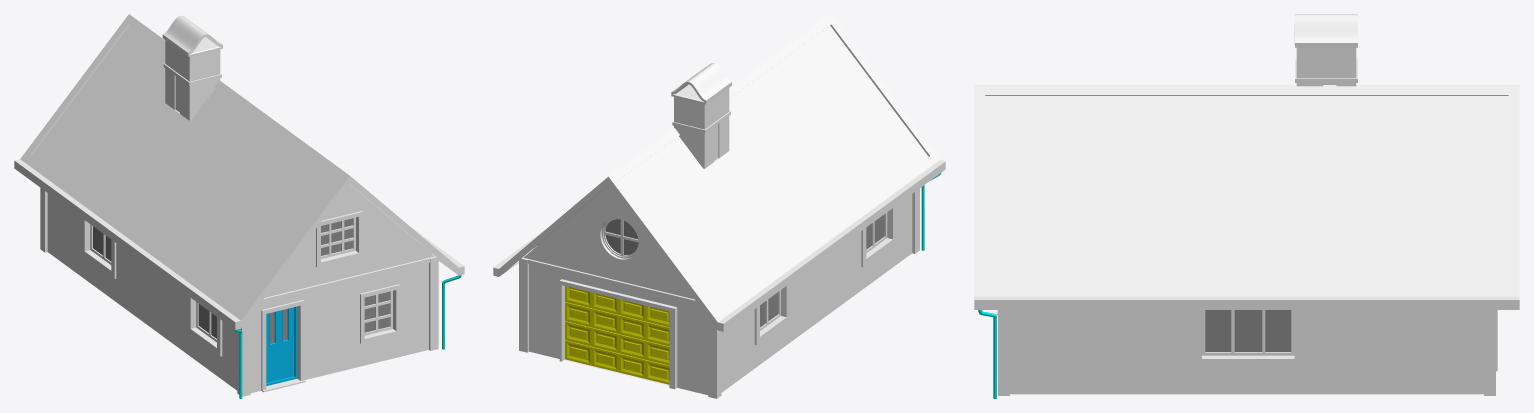
The model's file is House_3.fbx.
3 views of the same model, side by side, from view 1: azimuth 30°, elevation 25°; view 2: azimuth 150°, elevation 25°; view 3: azimuth 270°, elevation 25° (orthographic). The views are drawn at different scales.
Visible parts, largest first — view 1: House_3; view 2: House_3; view 3: House_3.
Boxes of the visible parts, x1,y1,x2,y2 form: House_3: (14, 14, 464, 398); House_3: (493, 14, 945, 398); House_3: (974, 14, 1519, 398).
Size of the model in its own units: 1498 by 1586 by 2500.
